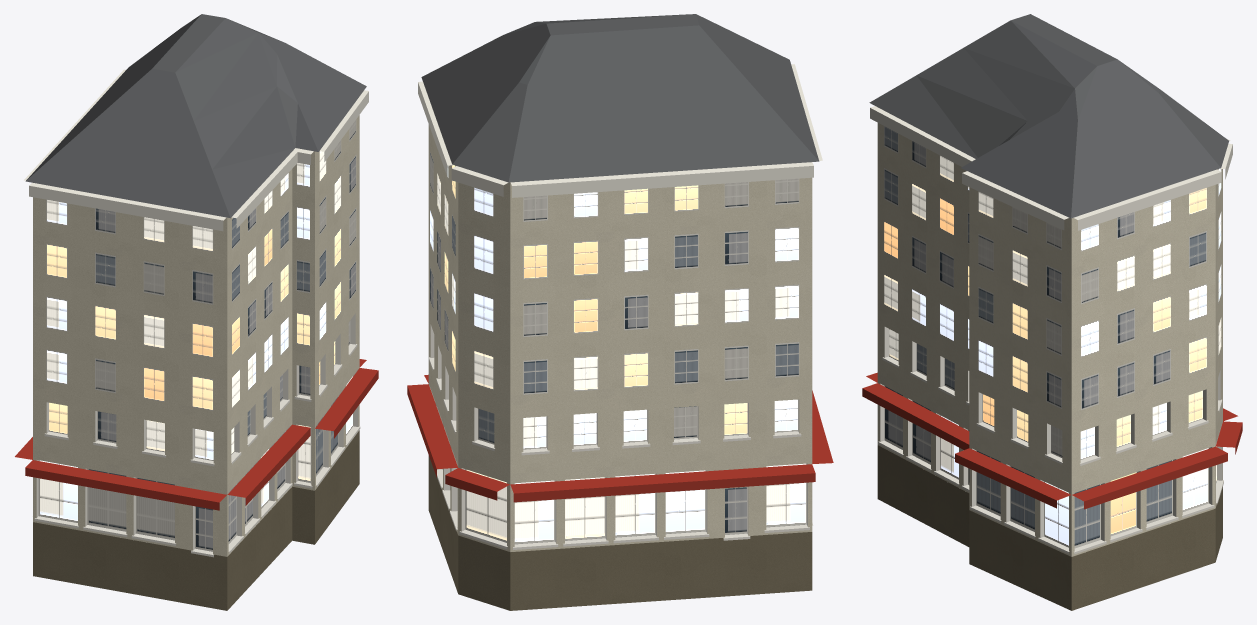
Rendered from z4_zurl21.glb.
3 views of the same model, side by side, from view 1: azimuth 30°, elevation 25°; view 2: azimuth 150°, elevation 25°; view 3: azimuth 270°, elevation 25° (orthographic). The views are drawn at different scales.
Parts seen in each view (by area): view 1: z4_zurl21; view 2: z4_zurl21; view 3: z4_zurl21.
Part boxes in pixels (x1,y1,x2,y2): z4_zurl21: [15, 14, 378, 610]; z4_zurl21: [407, 14, 833, 610]; z4_zurl21: [862, 14, 1242, 610].
Bounding box in the file's own units: 21.31 × 27 × 19.17.
3 materials, 3 textured.
